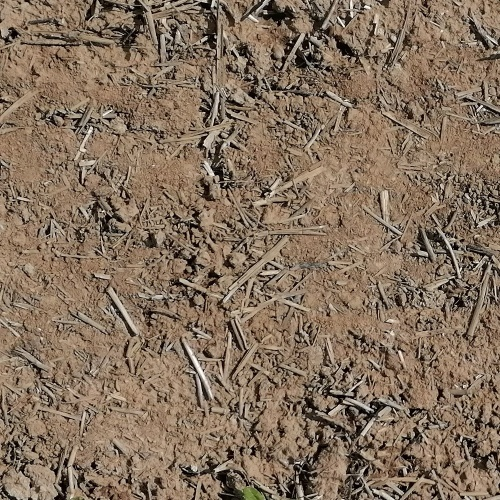beet: (241, 485, 276, 500)
